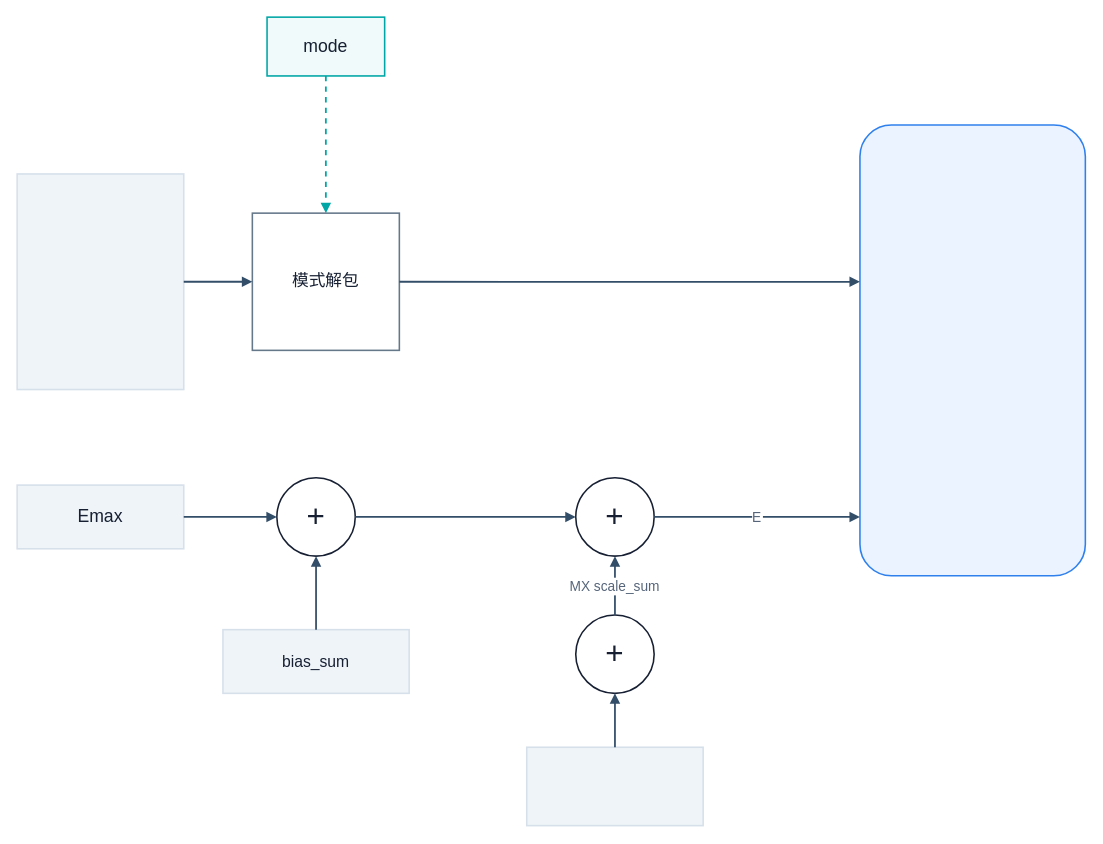
Some shapes in this 1103 by 844 pixel diagram are drawn without their labels. Each missing label, with the centre of its shape:
MX 输出寄存器 M：signed36 E：unsigned8 mode / first / tag: the point at 972,350
PSUM 56bit: the point at 100,281
s_A / s_B E8M0 scale: the point at 614,786
